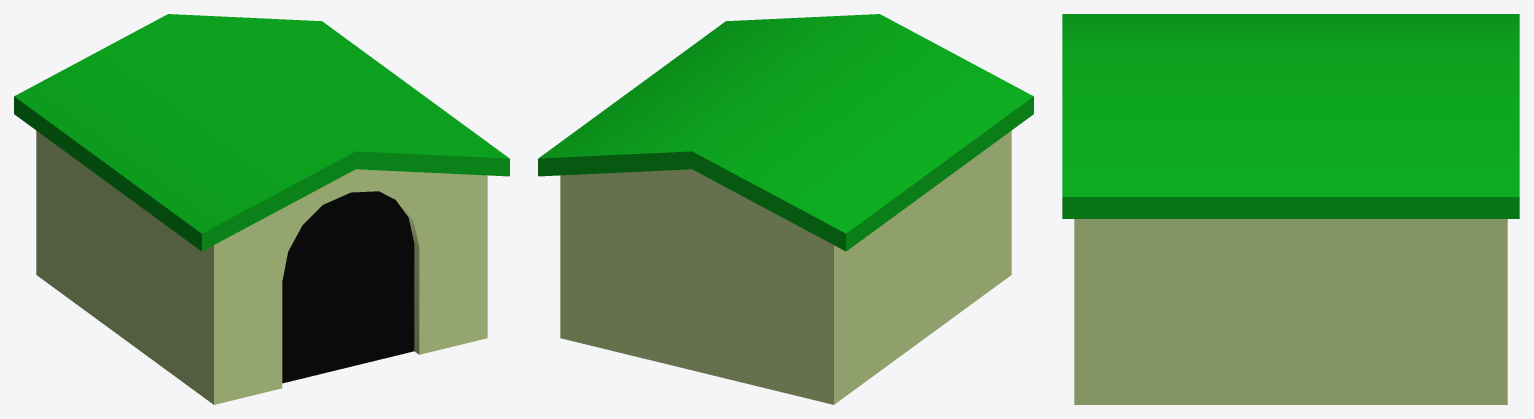
Rendered from dorm_shachi.FBX.
3 renders of one model, left to right at view 1: azimuth 30°, elevation 25°; view 2: azimuth 150°, elevation 25°; view 3: azimuth 270°, elevation 25°, orthographic. The views are drawn at different scales.
Parts seen in each view (by area): view 1: dorm, Box001; view 2: dorm, Box001; view 3: Box001, dorm.
Boxes of the visible parts, left/top/right/bottom form: dorm: left=36, top=131, right=487, bottom=404; Box001: left=14, top=14, right=509, bottom=251; dorm: left=560, top=131, right=1011, bottom=404; Box001: left=538, top=14, right=1033, bottom=251; Box001: left=1062, top=14, right=1519, bottom=218; dorm: left=1074, top=219, right=1507, bottom=404.
Size of the model in its own units: 360 by 250 by 380.
